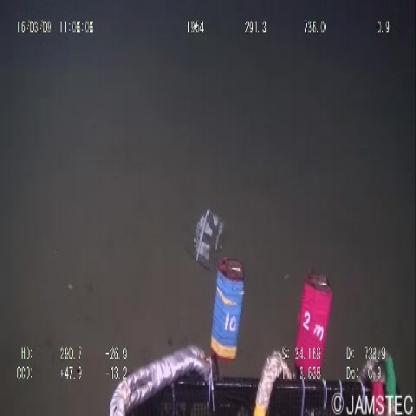Rov: (104, 249, 399, 416)
Rác: (189, 200, 228, 268)
